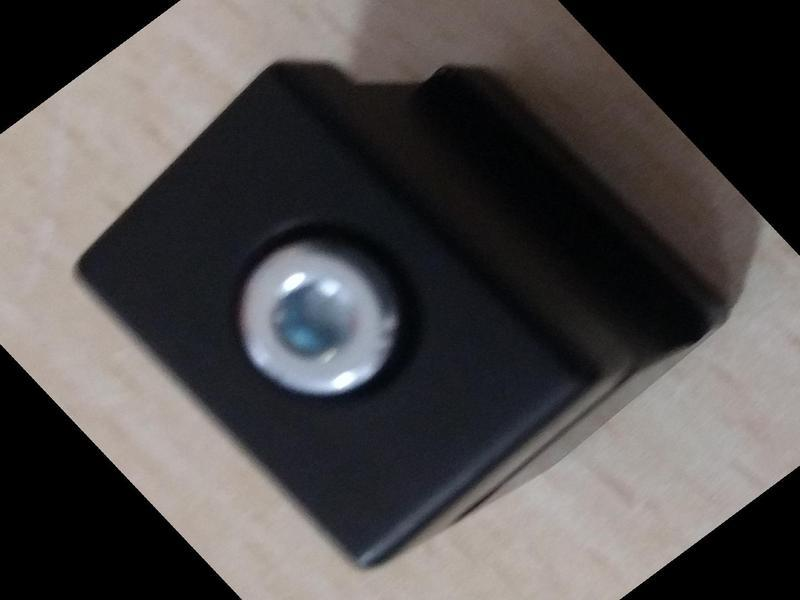smallObject: (59, 40, 762, 582)
